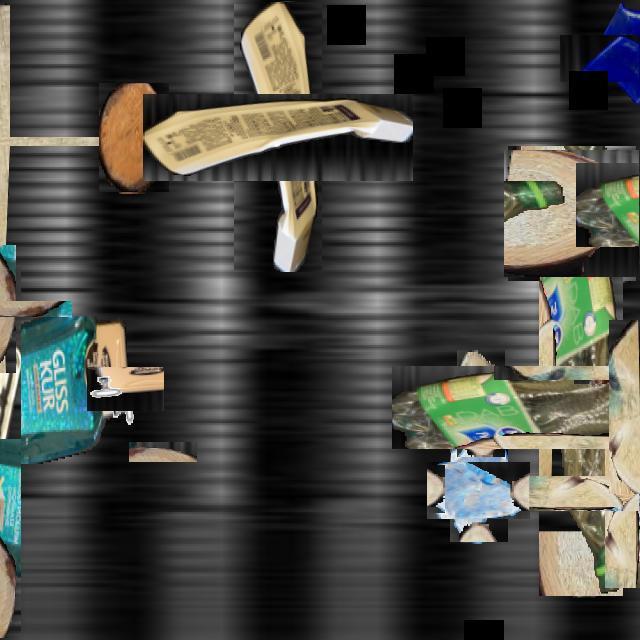glass: (439, 450, 519, 531), (576, 18, 640, 98)
metal: (94, 359, 156, 420)
plastic: (465, 291, 640, 522), (188, 48, 368, 226), (0, 352, 109, 550), (0, 316, 129, 462)
wood: (506, 148, 638, 279), (0, 69, 76, 214), (566, 438, 640, 549), (99, 84, 169, 194), (442, 365, 520, 442), (609, 320, 640, 494), (0, 273, 44, 345)
